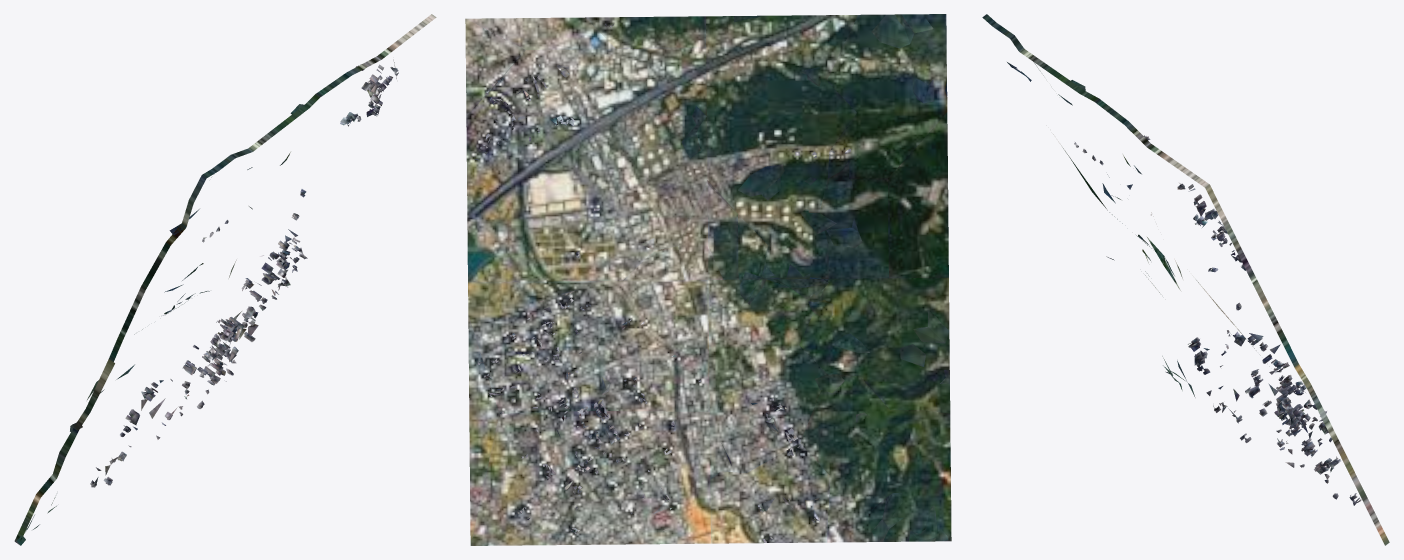
3 renders of one model, left to right at view 1: azimuth 30°, elevation 25°; view 2: azimuth 150°, elevation 25°; view 3: azimuth 270°, elevation 25°, orthographic. The views are drawn at different scales.
Bounding box in the file's own units: 4972 × 4493 × 4028.
1 material, 1 textured.
